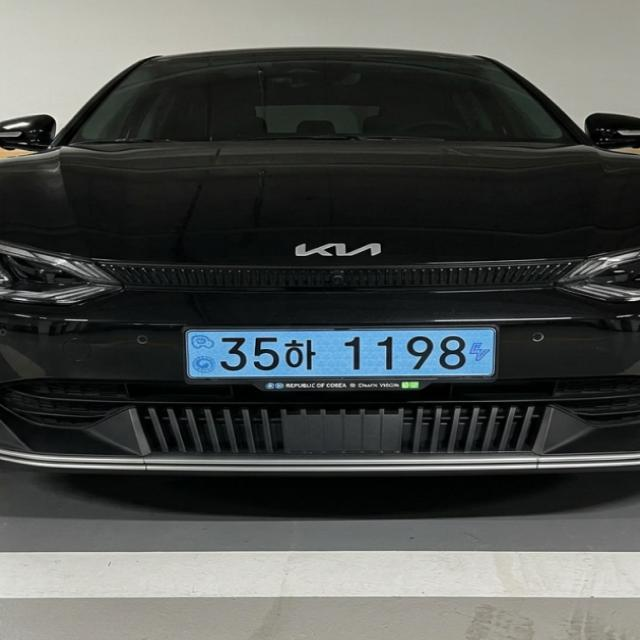car: (154, 314, 528, 407)
carev: (464, 327, 500, 379), (186, 332, 218, 382)
